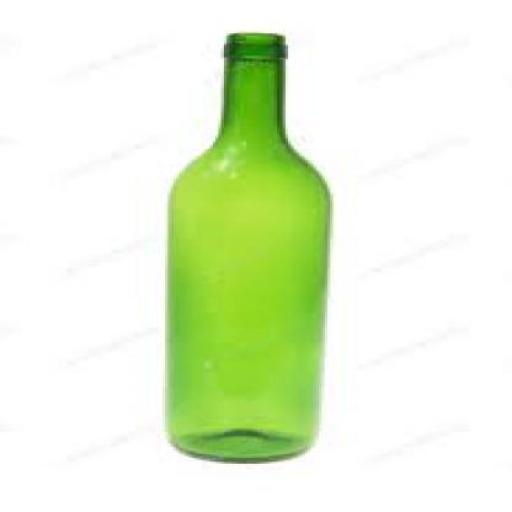glass: (162, 33, 330, 462)
